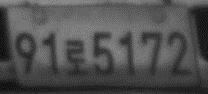1: (117, 29, 136, 78), (41, 31, 60, 77)
2: (167, 31, 193, 78)
5: (91, 30, 116, 76)
7: (140, 30, 165, 78)
9: (14, 31, 37, 78)
로: (64, 38, 90, 76)
